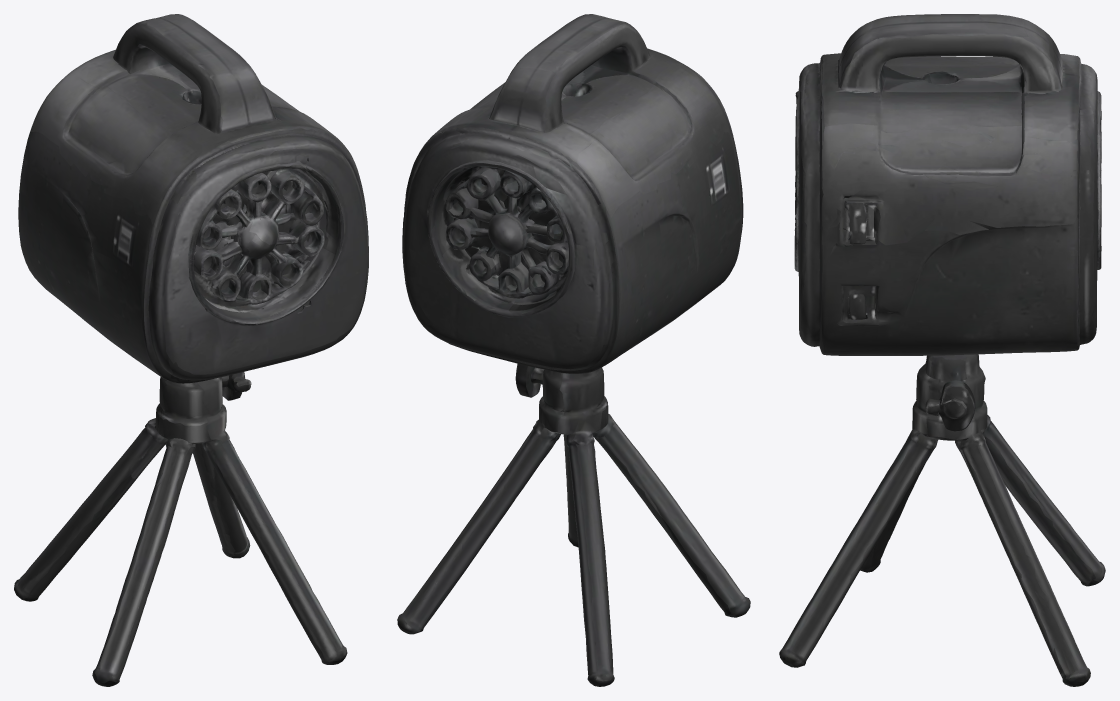
Rendered from aholo-20261119-bubble-machine.glb.
The picture shows the model from 3 angles, left to right: view 1: azimuth 30°, elevation 25°; view 2: azimuth 150°, elevation 25°; view 3: azimuth 270°, elevation 25°; orthographic projection. The views are drawn at different scales.
Parts seen in each view (by area): view 1: geometry_0; view 2: geometry_0; view 3: geometry_0.
Boxes of the visible parts, bbox=[...] form: geometry_0: bbox=[14, 14, 368, 686]; geometry_0: bbox=[397, 14, 750, 686]; geometry_0: bbox=[779, 14, 1105, 686].
Bounding box in the file's own units: 0.209 × 0.45 × 0.2174.
Materials: 1 (1 with a texture image).
